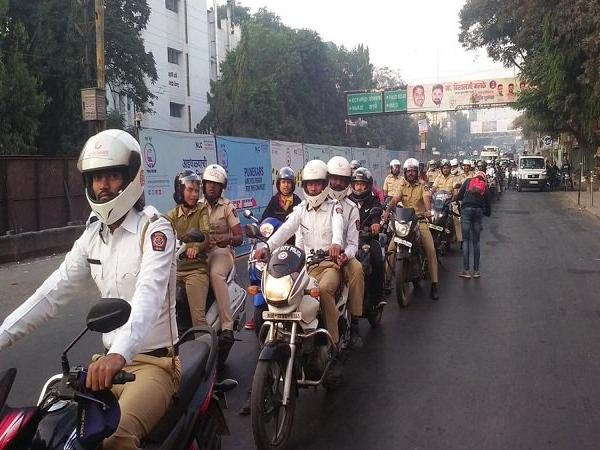with_helmet: (71, 127, 150, 227), (299, 156, 329, 210), (173, 167, 203, 210), (201, 161, 231, 204), (328, 152, 349, 202), (350, 165, 375, 200), (274, 165, 297, 196), (402, 156, 420, 185), (389, 157, 402, 177), (440, 157, 452, 177), (462, 158, 471, 171)
